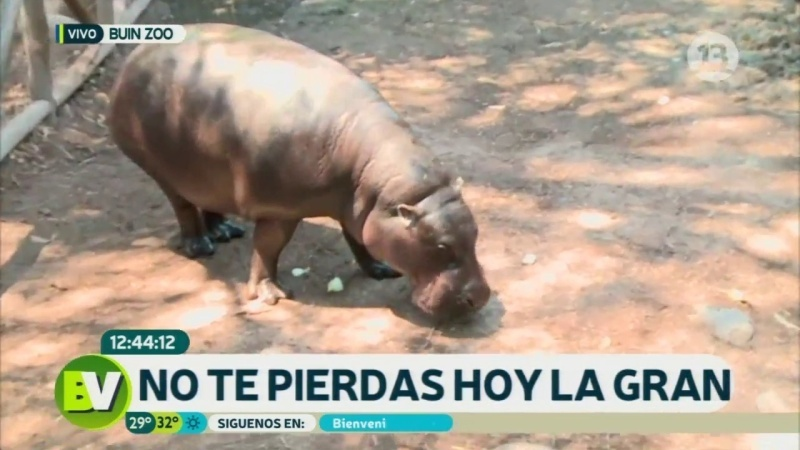hipopotamo: (104, 16, 514, 346)
